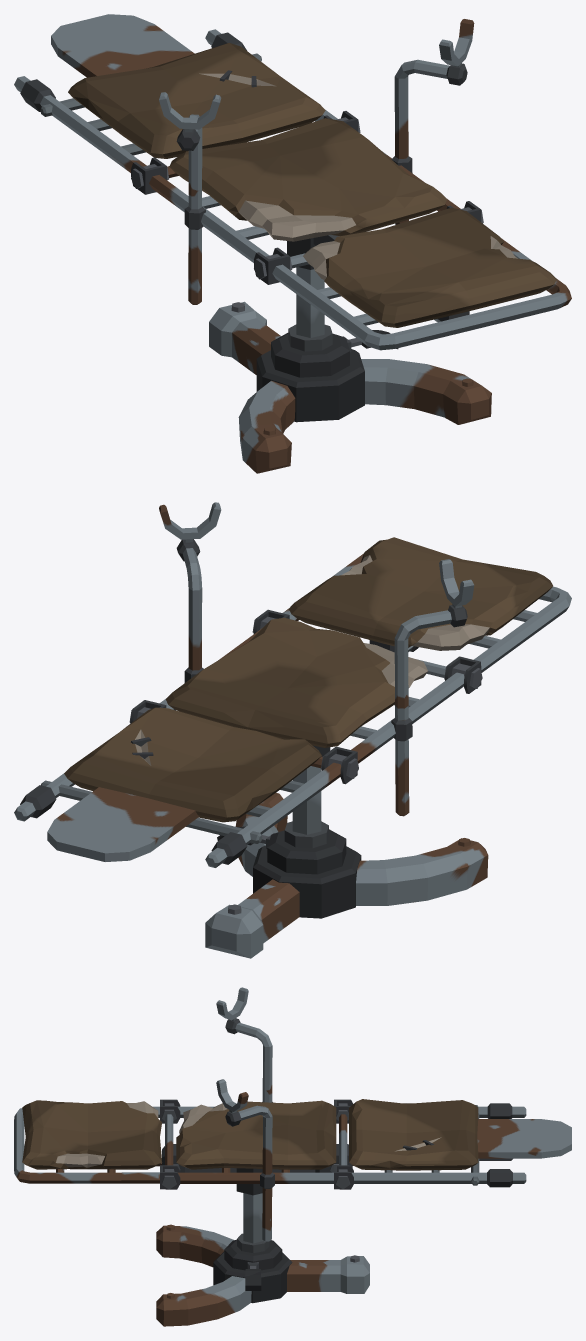
File: SM_Prop_Surgical_Chair_01.fbx
3 renders of one model, top to bottom at view 1: azimuth 30°, elevation 25°; view 2: azimuth 150°, elevation 25°; view 3: azimuth 270°, elevation 25°, orthographic. The views are drawn at different scales.
Parts seen in each view (by area): view 1: SM_Prop_Surgical_Chair_01, SM_Prop_Surgical_Chair_01_Bed_03, SM_Prop_Surgical_Chair_01_Bed_02, SM_Prop_Surgical_Chair_01_Pole_01; view 2: SM_Prop_Surgical_Chair_01, SM_Prop_Surgical_Chair_01_Bed_03, SM_Prop_Surgical_Chair_01_Bed_02, SM_Prop_Surgical_Chair_01_Pole_01; view 3: SM_Prop_Surgical_Chair_01, SM_Prop_Surgical_Chair_01_Bed_03, SM_Prop_Surgical_Chair_01_Bed_02, SM_Prop_Surgical_Chair_01_Pole_01.
Part boxes in pixels (left/top/right/bottom): SM_Prop_Surgical_Chair_01: left=131, top=19, right=491, bottom=473; SM_Prop_Surgical_Chair_01_Bed_03: left=14, top=14, right=337, bottom=172; SM_Prop_Surgical_Chair_01_Bed_02: left=272, top=207, right=571, bottom=350; SM_Prop_Surgical_Chair_01_Pole_01: left=296, top=267, right=324, bottom=337; SM_Prop_Surgical_Chair_01: left=129, top=502, right=488, bottom=958; SM_Prop_Surgical_Chair_01_Bed_03: left=14, top=707, right=341, bottom=867; SM_Prop_Surgical_Chair_01_Bed_02: left=282, top=537, right=571, bottom=672; SM_Prop_Surgical_Chair_01_Pole_01: left=292, top=766, right=321, bottom=834; SM_Prop_Surgical_Chair_01: left=156, top=987, right=369, bottom=1326; SM_Prop_Surgical_Chair_01_Bed_03: left=349, top=1099, right=571, bottom=1187; SM_Prop_Surgical_Chair_01_Bed_02: left=14, top=1100, right=162, bottom=1183; SM_Prop_Surgical_Chair_01_Pole_01: left=243, top=1193, right=263, bottom=1243.
Bounding box in the file's own units: 126 × 133 × 274.
